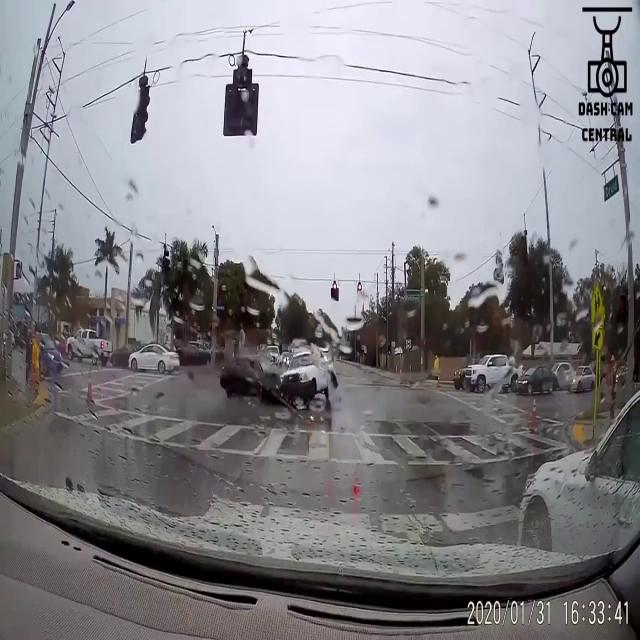accident: (218, 343, 332, 405)
